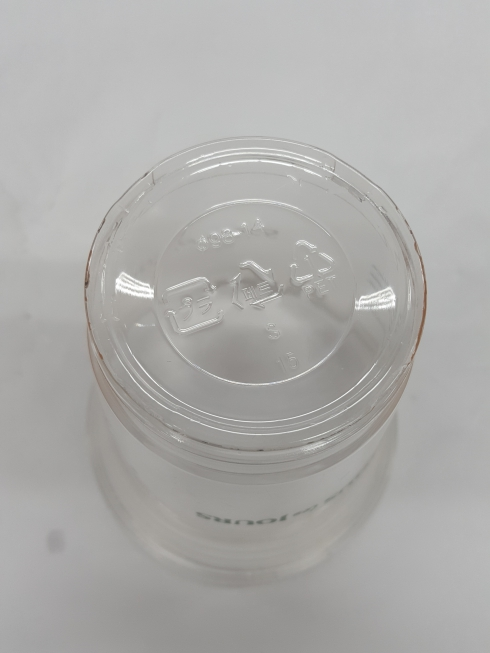recycle: (284, 227, 347, 305)
